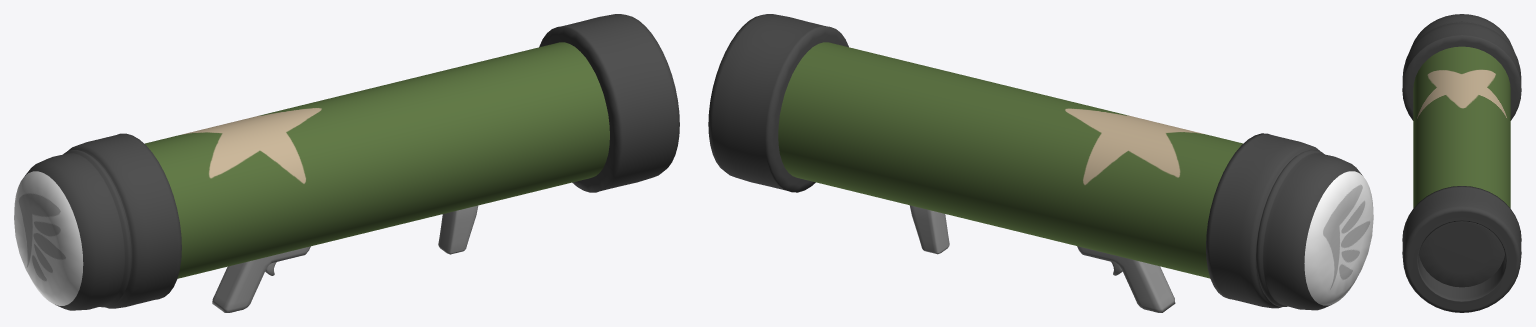
The model's file is gun.fbx.
3 renders of one model, left to right at view 1: azimuth 30°, elevation 25°; view 2: azimuth 150°, elevation 25°; view 3: azimuth 270°, elevation 25°, orthographic. The views are drawn at different scales.
Parts seen in each view (by area): view 1: pCylinder1, pCylinder2, pCylinder3, pCube1, pCube3; view 2: pCylinder1, pCylinder2, pCylinder3, pCube1, pCube3; view 3: pCylinder1, pCylinder3, pCylinder2.
Part boxes in pixels (x1,y1,x2,y2): pCylinder1: [144, 42, 609, 278]; pCylinder2: [14, 133, 181, 310]; pCylinder3: [539, 14, 679, 192]; pCube1: [212, 246, 310, 312]; pCube3: [438, 205, 478, 254]; pCylinder1: [778, 42, 1243, 278]; pCylinder2: [1206, 133, 1373, 310]; pCylinder3: [708, 14, 848, 192]; pCube1: [1077, 246, 1175, 312]; pCube3: [909, 205, 949, 254]; pCylinder1: [1413, 46, 1510, 287]; pCylinder3: [1402, 186, 1521, 312]; pCylinder2: [1402, 14, 1521, 120].
Size of the model in its own units: 19.58 by 5.92 by 4.81.
Materials: 1 (1 with a texture image).
